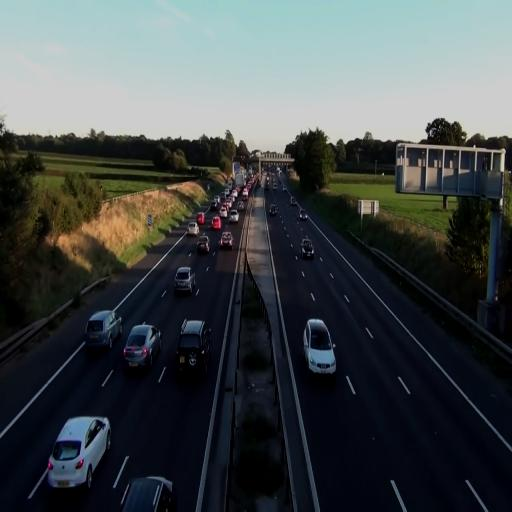vehicle: (46, 414, 112, 492), (120, 475, 177, 512), (302, 318, 336, 379), (177, 318, 211, 377), (122, 324, 161, 373), (86, 309, 122, 352), (174, 265, 198, 297), (197, 234, 211, 255), (301, 237, 314, 259), (220, 230, 234, 250), (228, 208, 239, 223), (300, 213, 308, 221)
